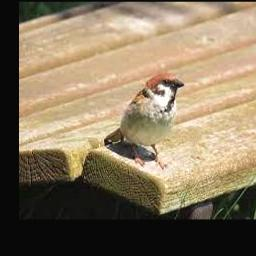Sparrow: (104, 74, 184, 168)
